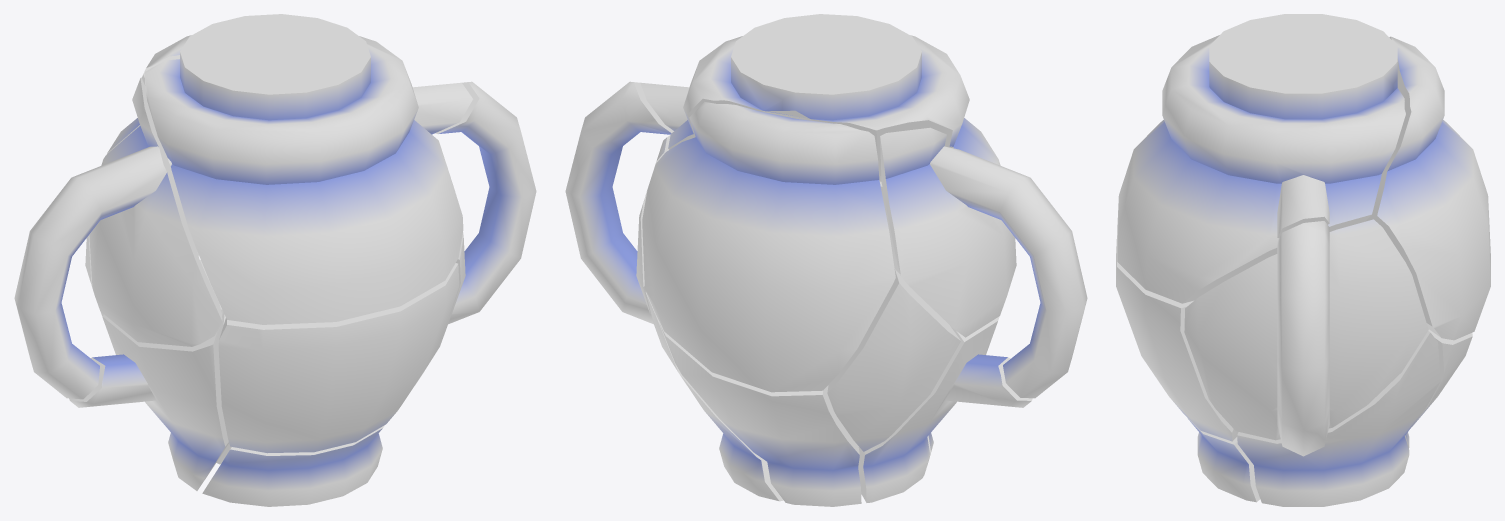
The model's file is ruins_pot_destroyed.glb.
3 renders of one model, left to right at view 1: azimuth 30°, elevation 25°; view 2: azimuth 150°, elevation 25°; view 3: azimuth 270°, elevation 25°, orthographic.
Visible parts, largest first — view 1: Broken_cell.006, Broken_cell.002, Broken_cell.001, Broken_cell.008, Broken_cell.003, Broken_cell, Broken_cell.007; view 2: Broken_cell.007, Broken_cell.002, Broken_cell.006, Broken_cell.005, Broken_cell.004, Broken_cell.003, Broken_cell.008, Broken_cell.009; view 3: Broken_cell.006, Broken_cell.003, Broken_cell.007, Broken_cell.009, Broken_cell.001, Broken_cell, Broken_cell.005.
Boxes of the visible parts, left/top/right/bottom form: Broken_cell.006: left=144, top=14, right=472, bottom=324; Broken_cell.002: left=14, top=77, right=222, bottom=399; Broken_cell.001: left=218, top=263, right=459, bottom=453; Broken_cell.008: left=69, top=309, right=228, bottom=490; Broken_cell.003: left=435, top=81, right=536, bottom=349; Broken_cell: left=202, top=425, right=384, bottom=506; Broken_cell.007: left=106, top=35, right=198, bottom=255; Broken_cell.007: left=642, top=102, right=895, bottom=392; Broken_cell.002: left=880, top=127, right=1087, bottom=398; Broken_cell.006: left=640, top=14, right=1000, bottom=181; Broken_cell.005: left=659, top=321, right=861, bottom=506; Broken_cell.004: left=827, top=269, right=960, bottom=451; Broken_cell.003: left=565, top=81, right=673, bottom=323; Broken_cell.008: left=858, top=316, right=1032, bottom=502; Broken_cell.009: left=645, top=292, right=783, bottom=501; Broken_cell.006: left=1117, top=14, right=1405, bottom=303; Broken_cell.003: left=1184, top=219, right=1428, bottom=456; Broken_cell.007: left=1365, top=36, right=1490, bottom=340; Broken_cell.009: left=1237, top=331, right=1440, bottom=506; Broken_cell.001: left=1116, top=235, right=1238, bottom=441; Broken_cell: left=1187, top=418, right=1260, bottom=502; Broken_cell.005: left=1405, top=329, right=1472, bottom=448.
Size of the model in its own units: 2.22 by 1.68 by 1.39.
